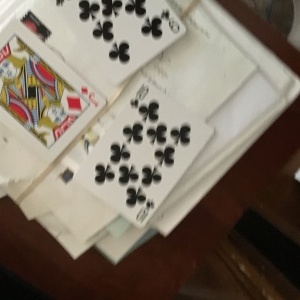card: (99, 75, 215, 225)
